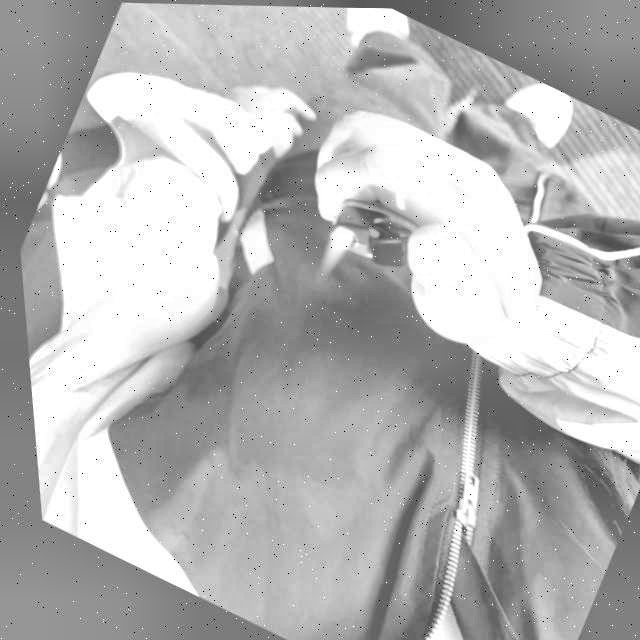Fire: (312, 233, 346, 272)
